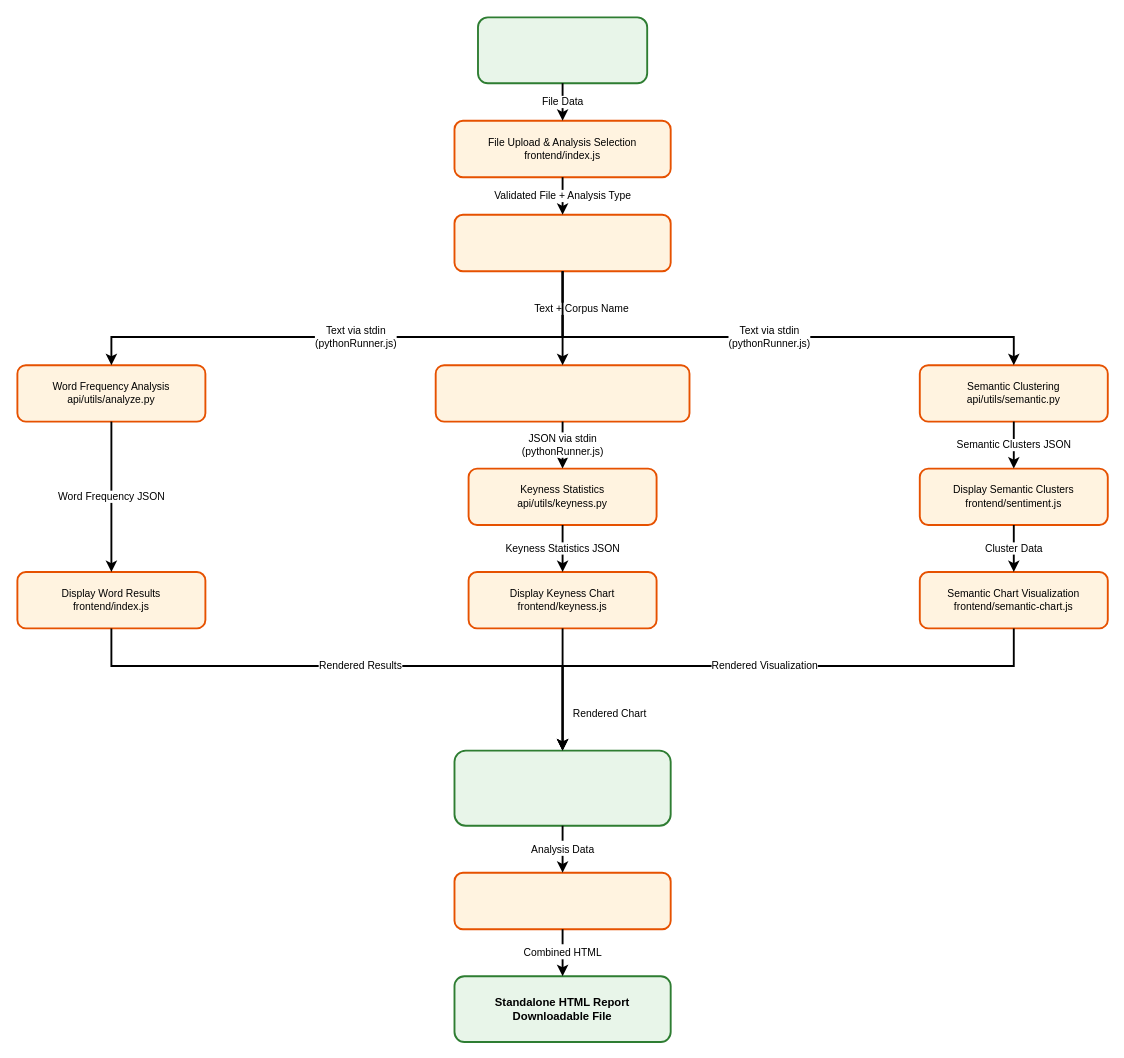
Image size: 1124x1058. Some labels were removed from this diagram. Here are the shapes that lost their labels. From the top down, the box of each, then its label:
(477, 16, 648, 84): Uploaded Writing TXT/DOCX/MD/ODT max 5MB
(453, 213, 671, 272): File Data Extraction & Routing api/routes.js + multer
(434, 364, 690, 422): Keyness Controller api/controllers/keynessController.js
(453, 749, 671, 826): Analysis Results Word Frequency/ Keyness Statistics/ Semantic Clusters
(453, 871, 671, 930): Generate HTML Report frontend/download.js
